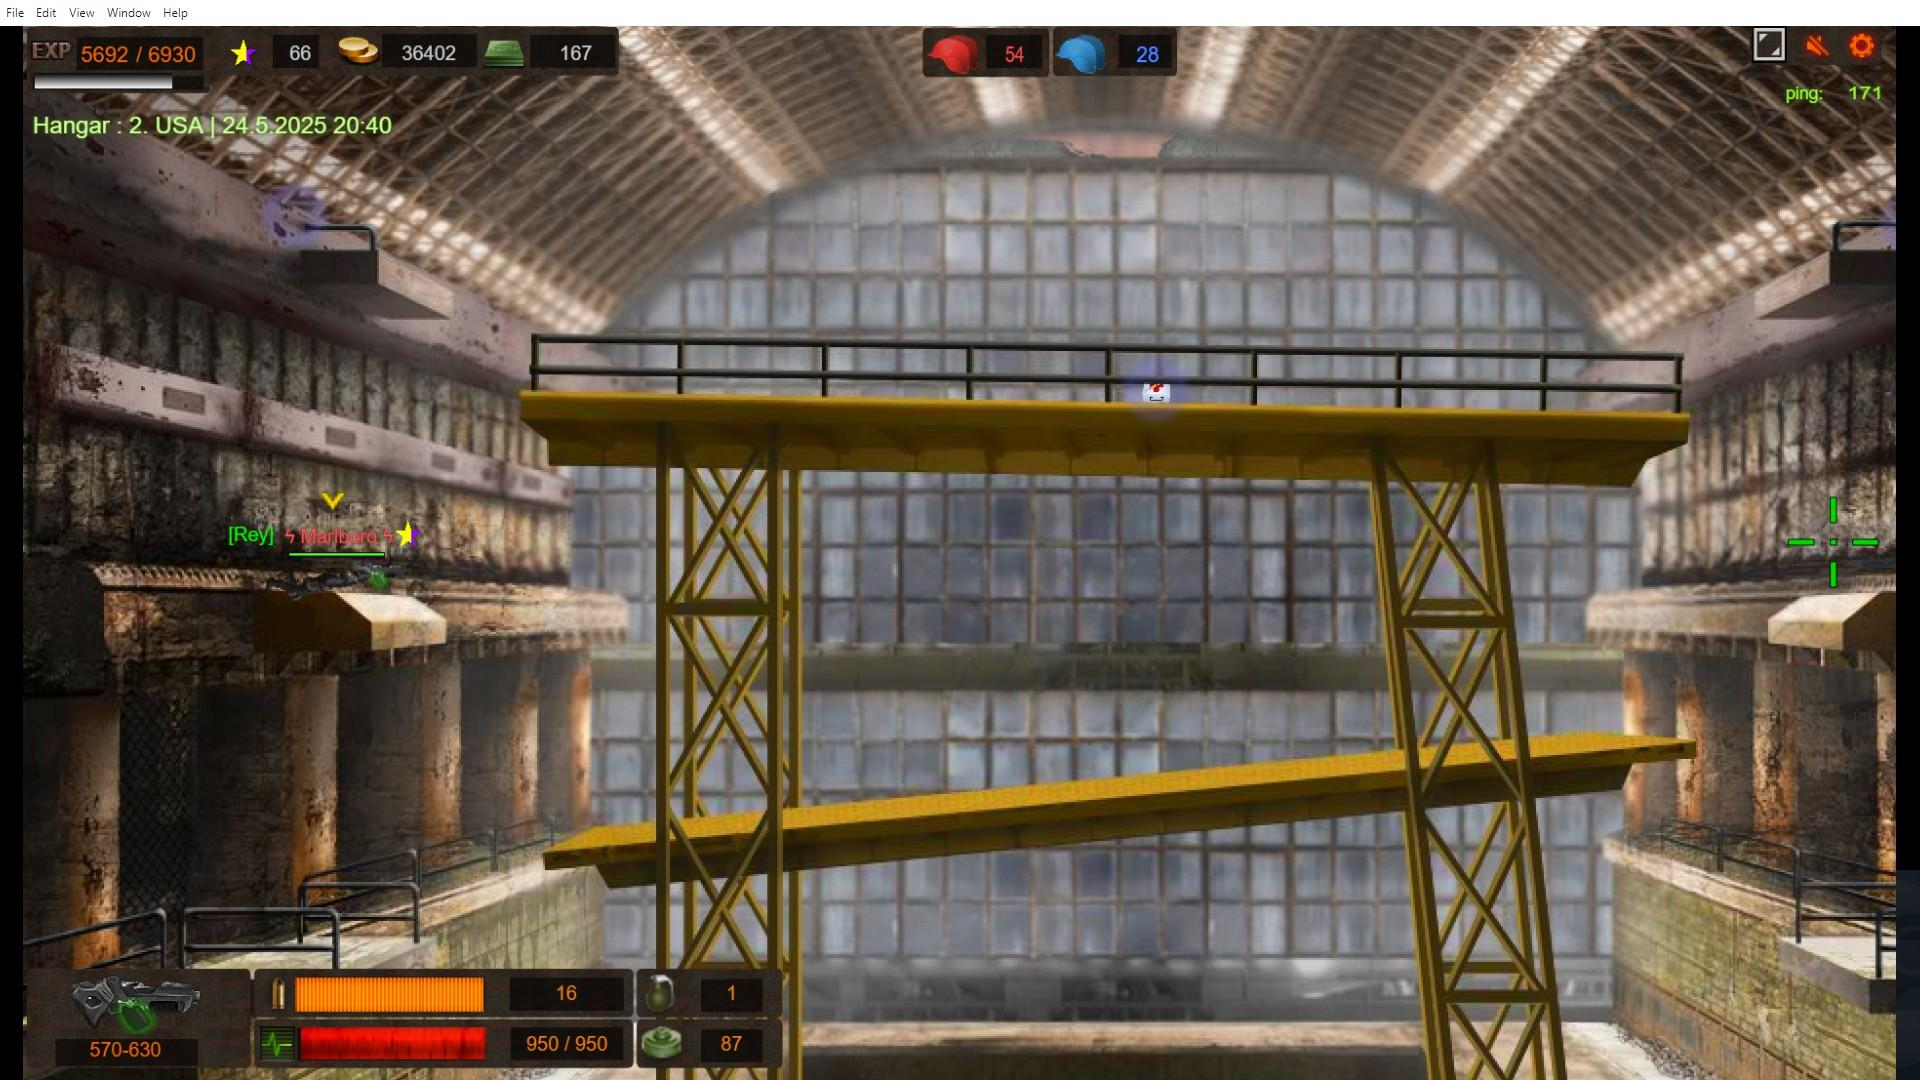enemy: (270, 570, 363, 595)
